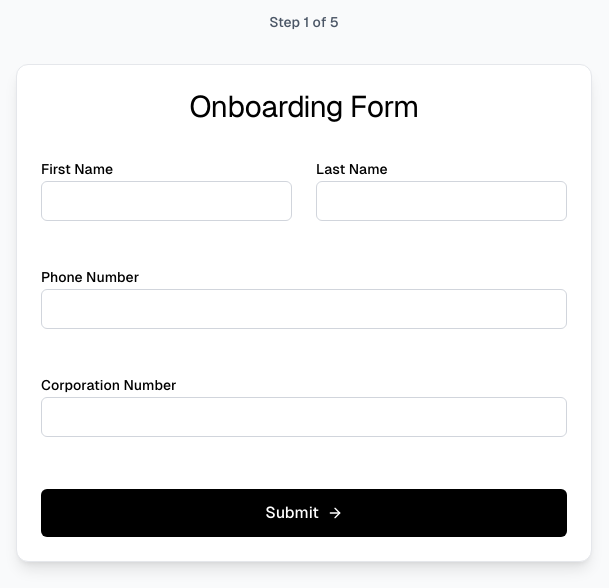
Scenario: PersonalDetailsStep › shows error for invalid corporation number
In the field labelled "Corporation Number": (304, 417) top-left (41, 397), bottom-right (567, 437), type "999999999"
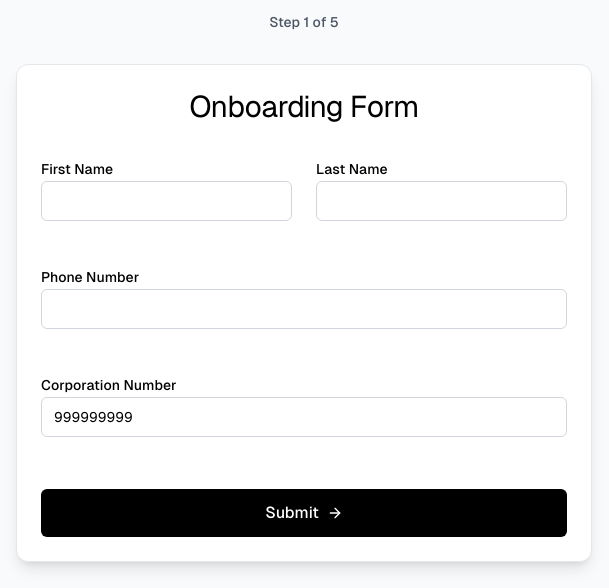
Leave the field labelled "Corporation Number", box top-left (41, 397), bottom-right (567, 437)
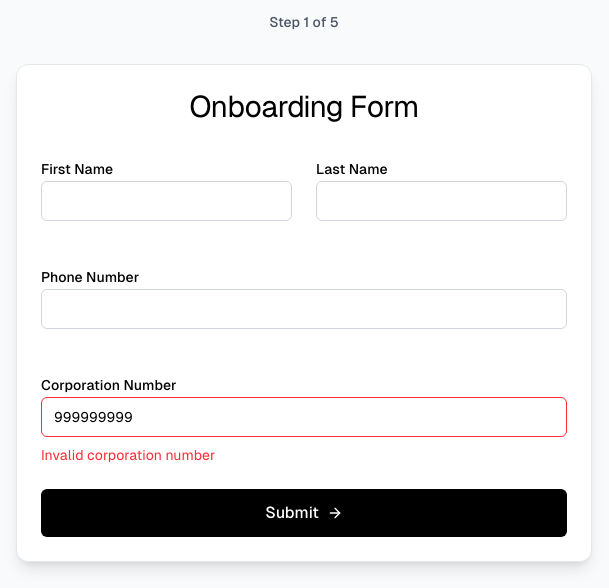
Now the text "Invalid corporation number" is shown, box top-left (41, 447), bottom-right (215, 463)
